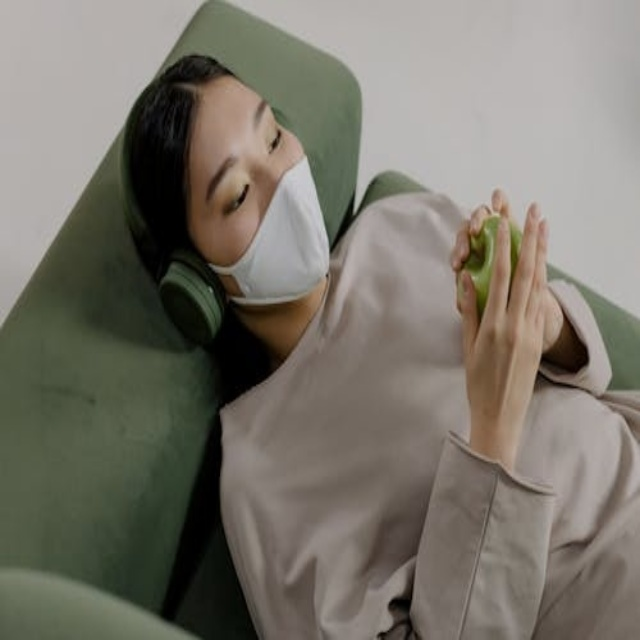Mascara: (206, 155, 331, 309)
Sin_gafas: (206, 79, 294, 229)
Sin_guantes: (452, 197, 552, 455)
